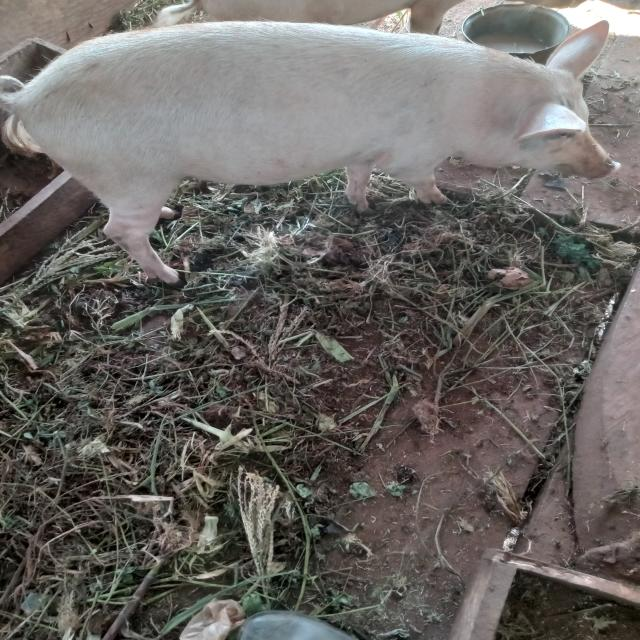pig: (0, 10, 633, 314)
